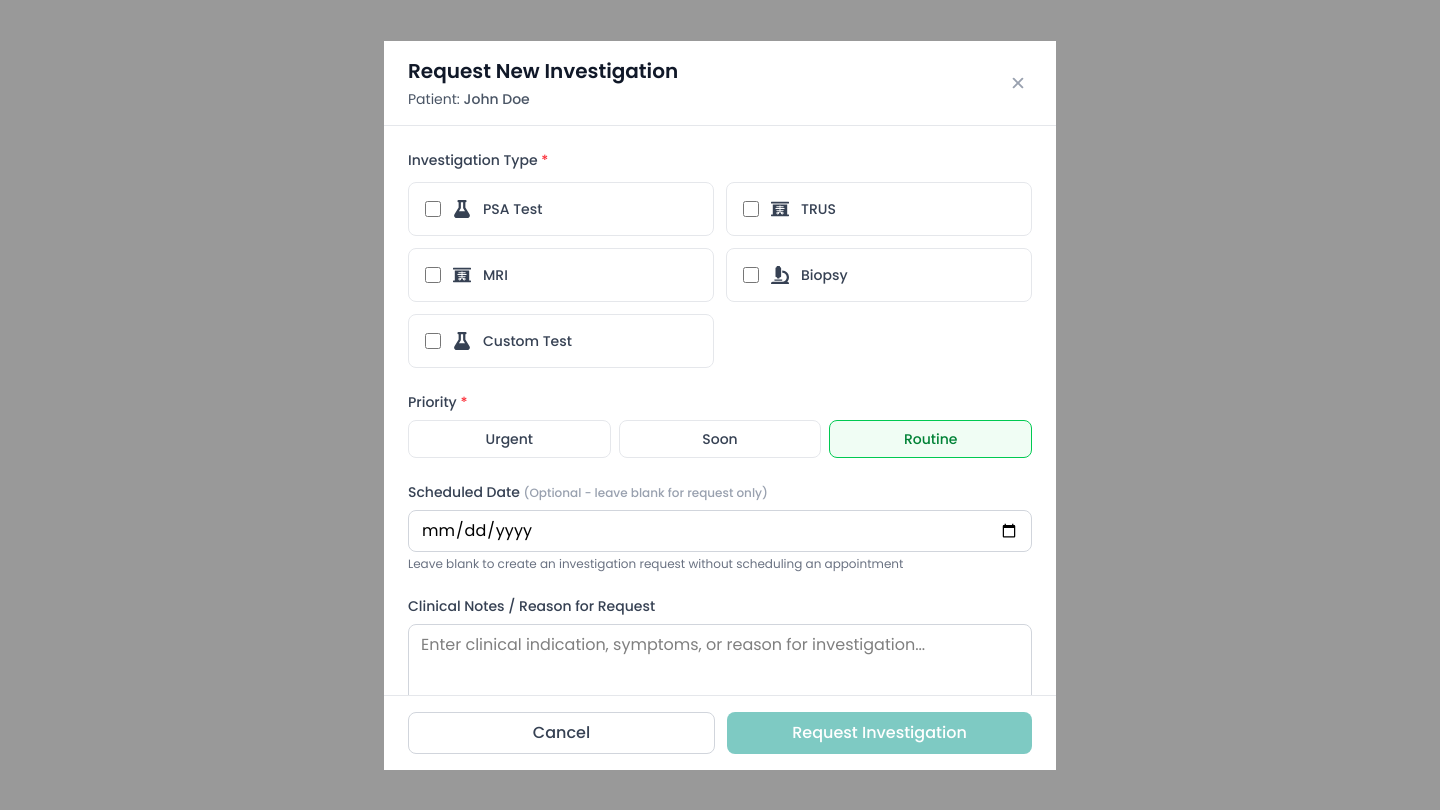
AddInvestigationModal › Investigation Type Selection › should show different tests for different investigation types
Click the text "MRI".
click(561, 274)  # box [408, 248, 714, 302]
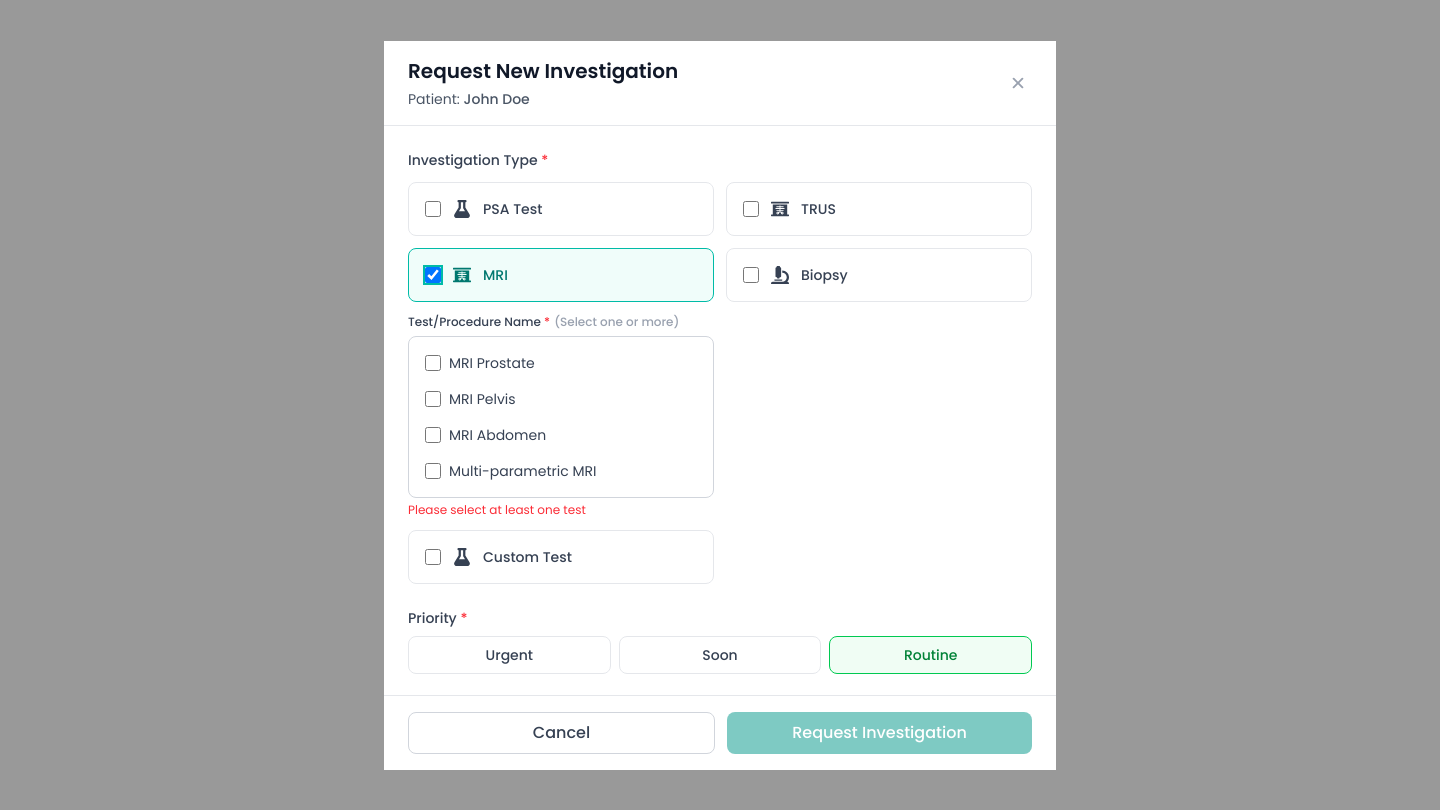
Result: the text "MRI Prostate" is shown at [449, 352, 535, 372]
